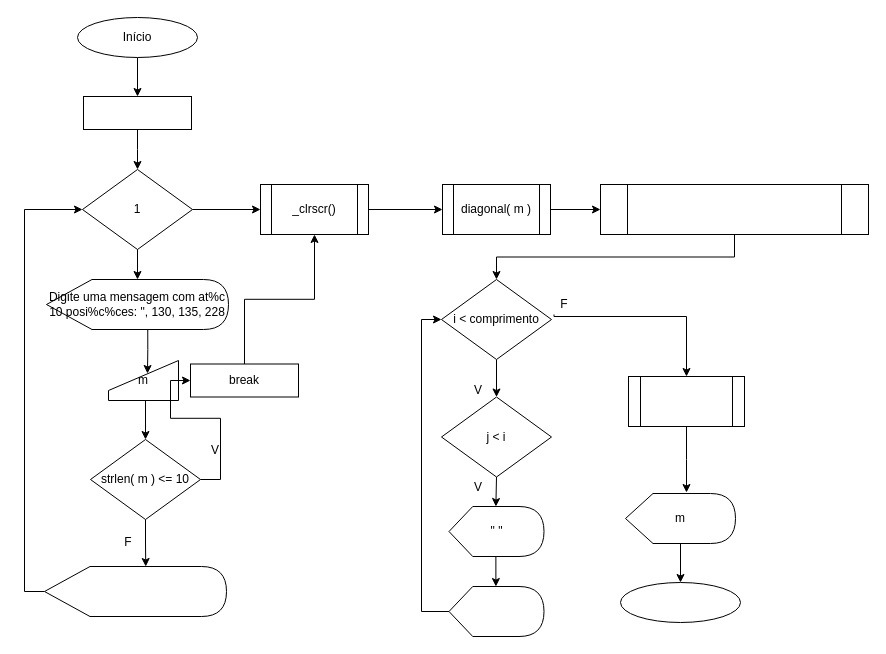
Image size: 886x654. Some labels were removed from this diagram. Each missing label, with the centre of its shape:
"char m[128]" goes at point 137,113.
"comprimento <- strlen( m );" goes at point 734,209.
"Fim" goes at point 680,602.
"getchar()" goes at point 686,401.
"m[i]" goes at point 496,611.
"Mensagem muito longa!" goes at point 135,591.
